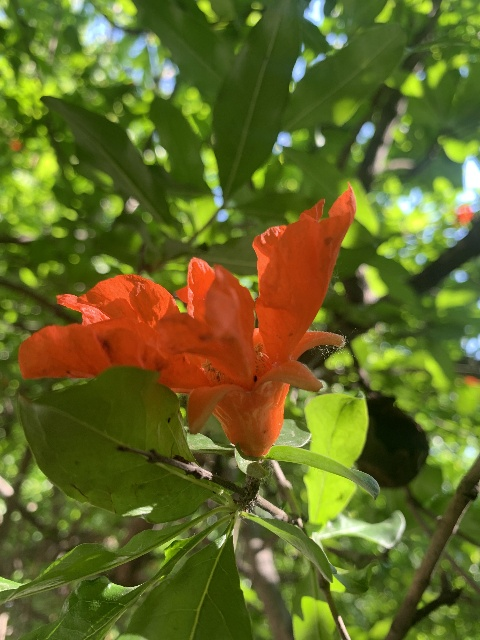flower: (17, 181, 356, 459)
